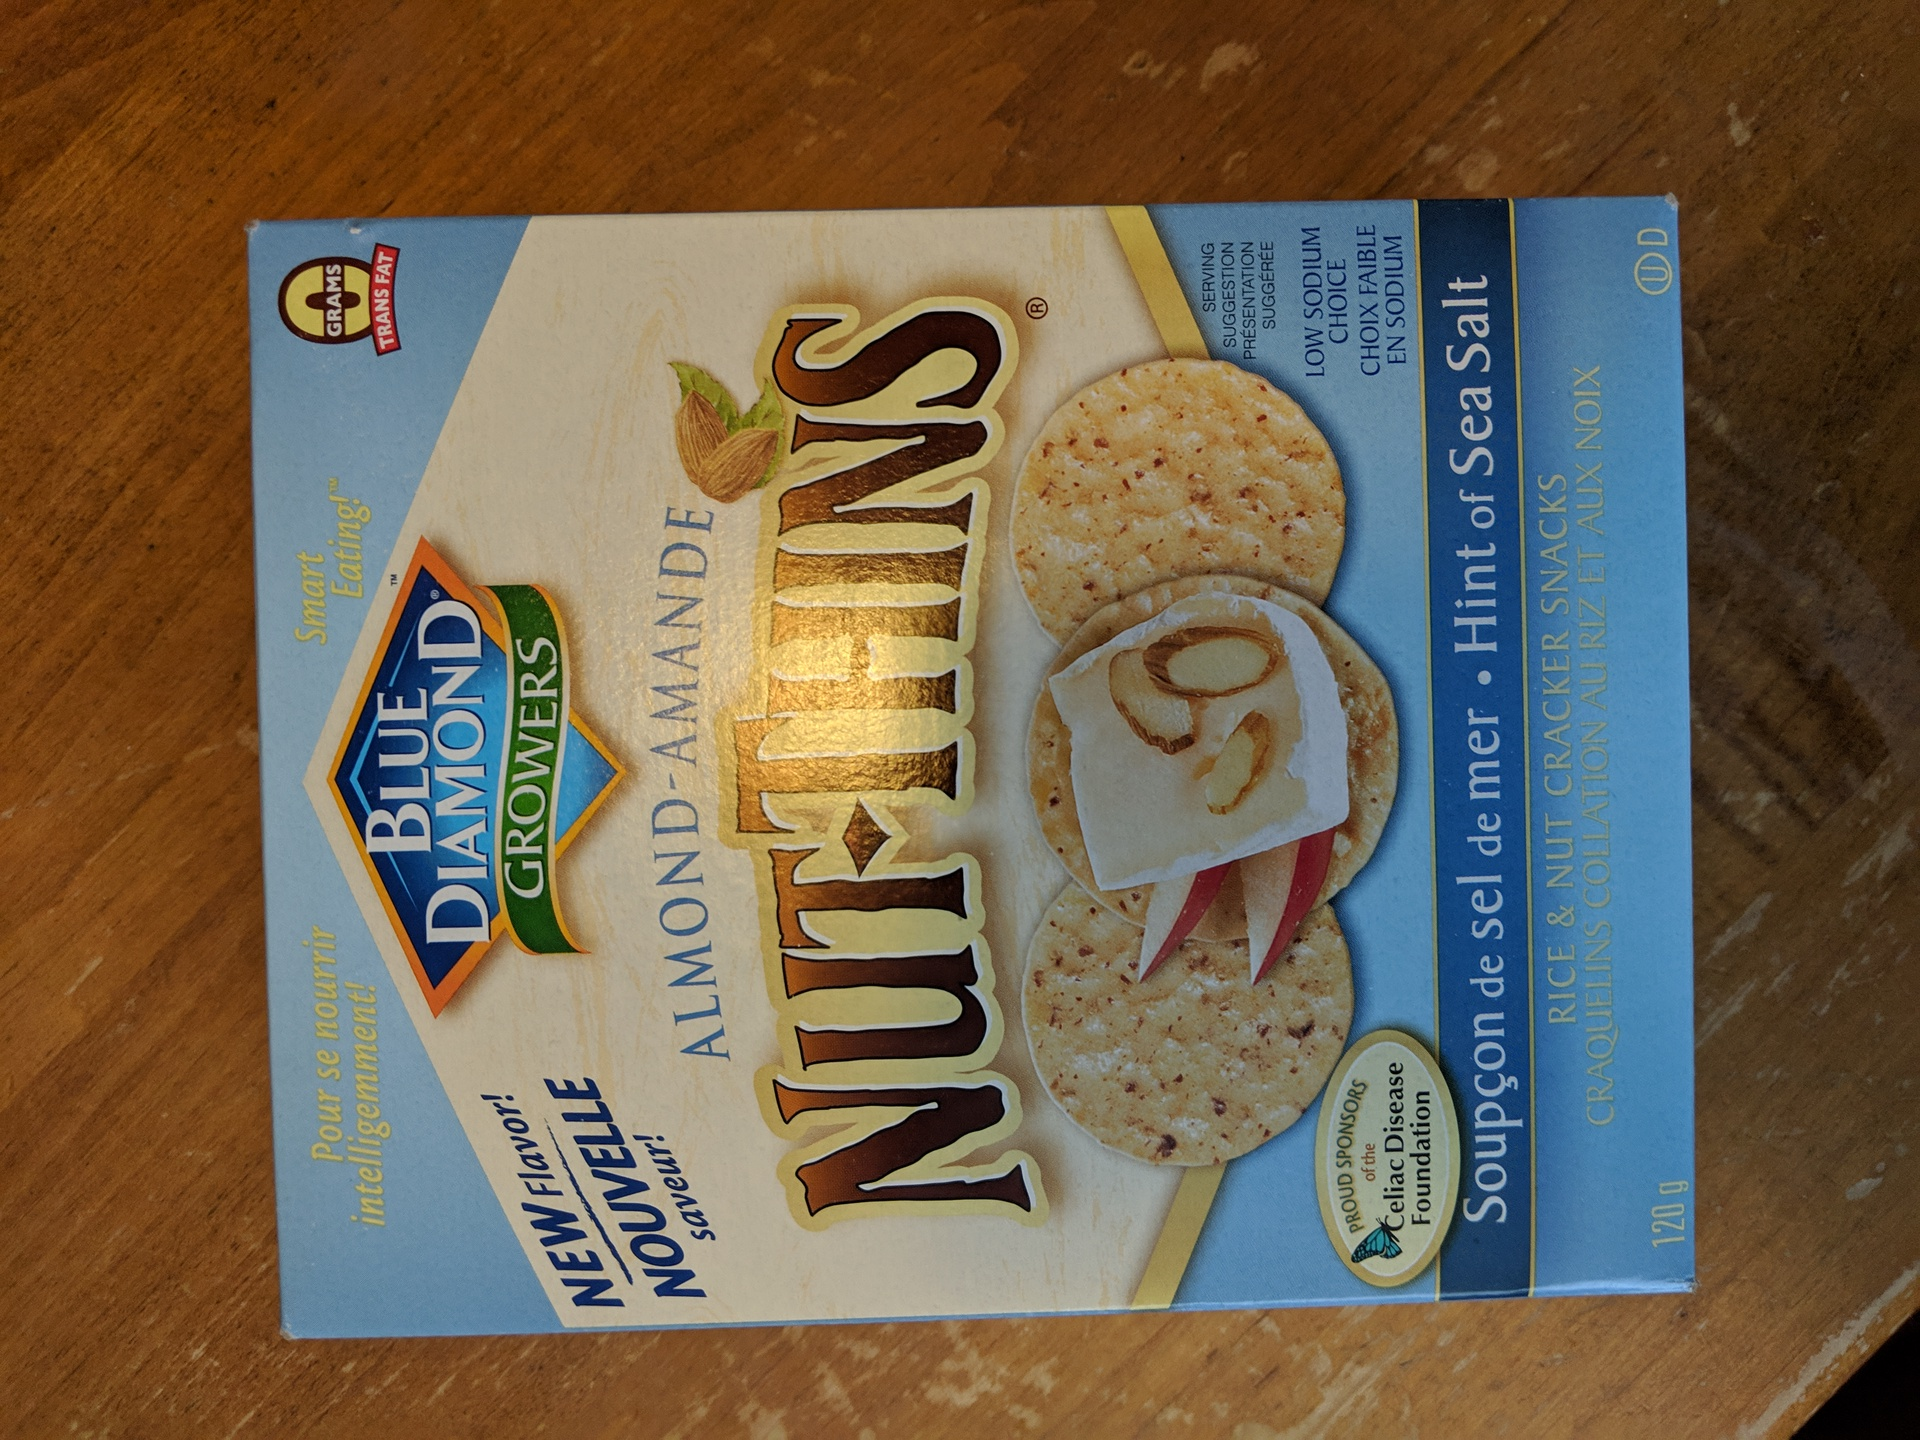blue_diamond_nut_thins_almond_seasalt: (252, 200, 1692, 1327)
